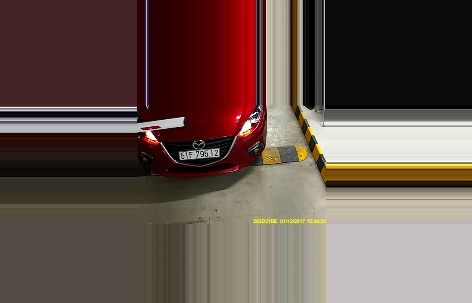plate: (177, 145, 220, 162)
